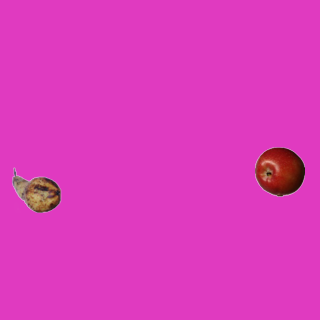Apple Braeburn: (254, 146, 304, 196)
Pear Abate: (11, 165, 61, 215)
